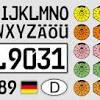0: (23, 48, 36, 70)
1: (52, 46, 65, 71)
3: (37, 47, 51, 71)
8: (0, 79, 7, 94)
9: (8, 48, 22, 70), (7, 79, 16, 95)
D: (49, 82, 60, 93)
I: (1, 5, 9, 21)
J: (9, 5, 18, 21)
K: (19, 4, 29, 20)
L: (28, 5, 39, 21), (0, 49, 7, 70)
M: (39, 5, 49, 21)
N: (49, 5, 59, 21)
O: (59, 5, 69, 21)
W: (0, 24, 4, 39)
X: (6, 23, 15, 40)
Y: (16, 24, 25, 39)
Z: (26, 24, 36, 40)
ae: (38, 24, 47, 39)
oe: (48, 24, 58, 39)
ue: (59, 23, 69, 39)
